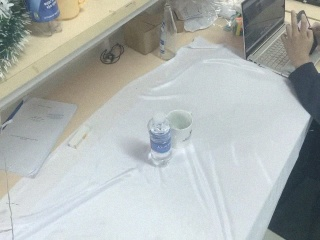bottle: (147, 112, 173, 167), (25, 1, 63, 37), (159, 1, 177, 61)
box: (123, 10, 161, 59)
cup: (166, 110, 193, 149)
